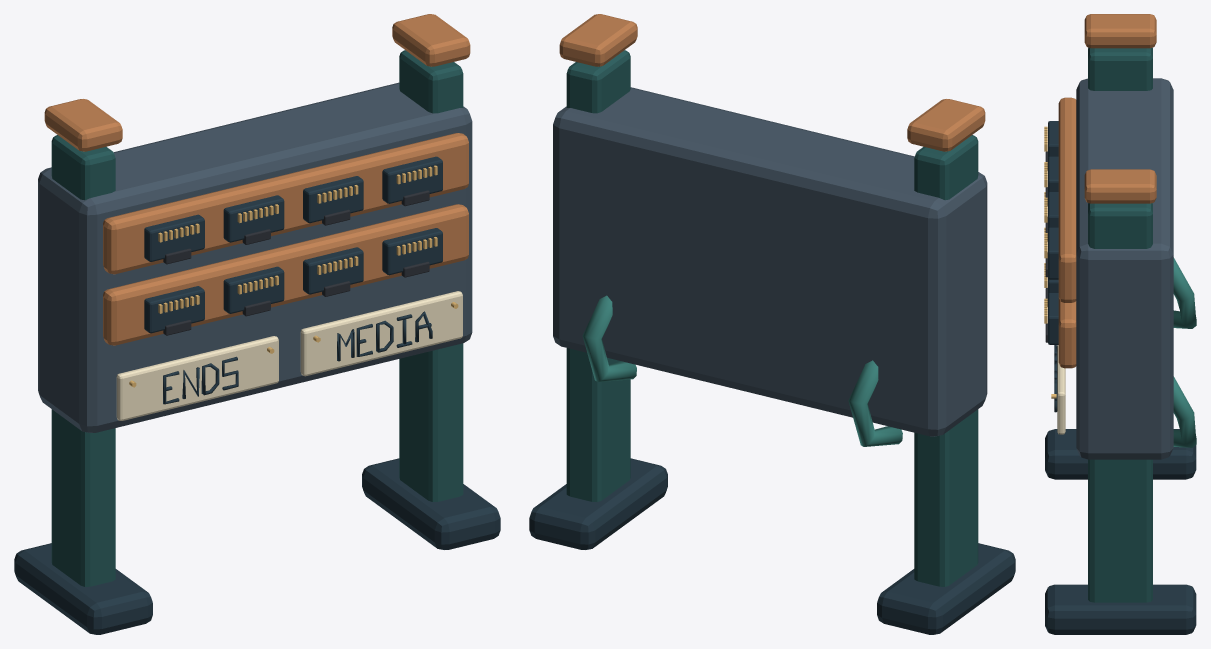
The picture shows the model from 3 angles, left to right: view 1: azimuth 30°, elevation 25°; view 2: azimuth 150°, elevation 25°; view 3: azimuth 270°, elevation 25°; orthographic projection. The views are drawn at different scales.
Parts seen in each view (by area): view 1: PR022 workshop surfaces; view 2: PR022 workshop surfaces; view 3: PR022 workshop surfaces.
Boxes of the visible parts, x1,y1,x2,y2 form: PR022 workshop surfaces: (14, 14, 500, 634); PR022 workshop surfaces: (529, 14, 1015, 634); PR022 workshop surfaces: (1044, 14, 1196, 634).
Size of the model in its own units: 1.29 by 1.46 by 0.45.
